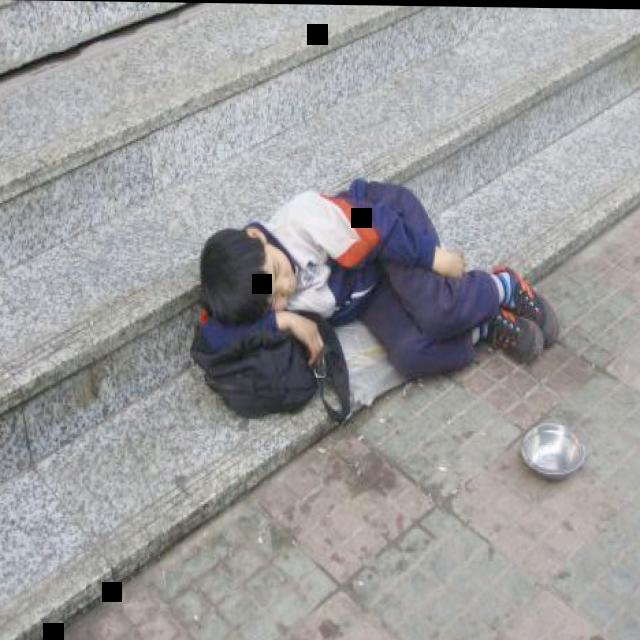Fall-Detected: (177, 141, 564, 431)
